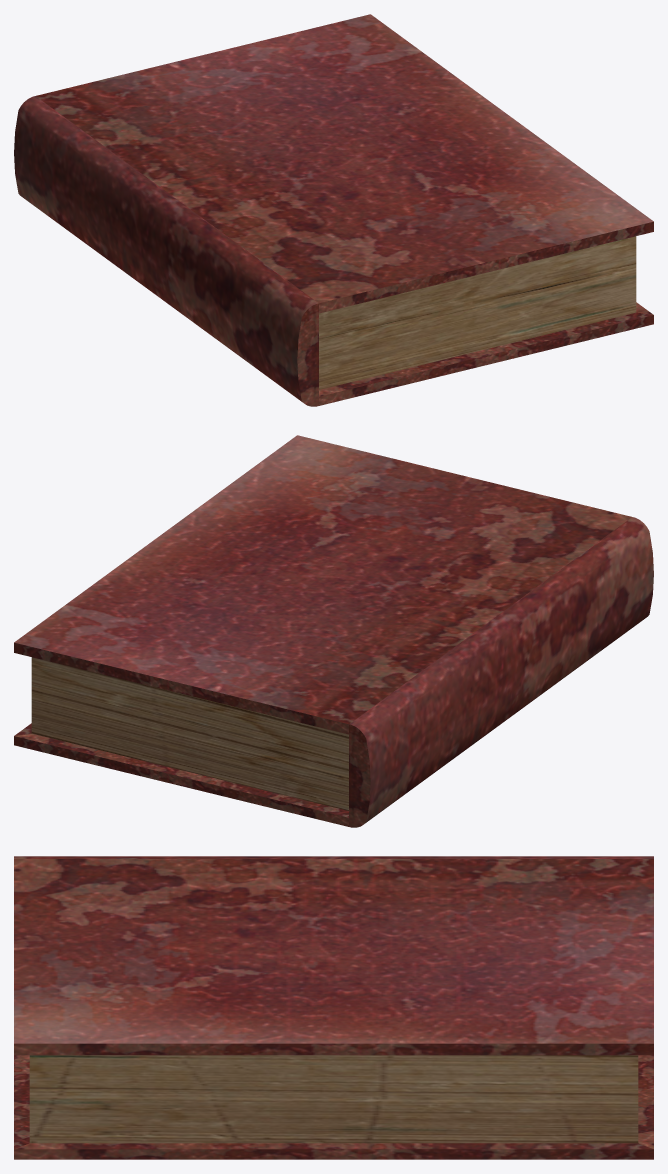
The model's file is book-02.fbx.
The picture shows the model from 3 angles, top to bottom: view 1: azimuth 30°, elevation 25°; view 2: azimuth 150°, elevation 25°; view 3: azimuth 270°, elevation 25°; orthographic projection. The views are drawn at different scales.
Parts seen in each view (by area): view 1: Cube.000; view 2: Cube.000; view 3: Cube.000.
Boxes of the visible parts, bbox=[...] form: Cube.000: bbox=[14, 14, 653, 406]; Cube.000: bbox=[14, 435, 653, 827]; Cube.000: bbox=[14, 856, 653, 1159].
Bounding box in the file's own units: 0.3053 × 0.084 × 0.42.
